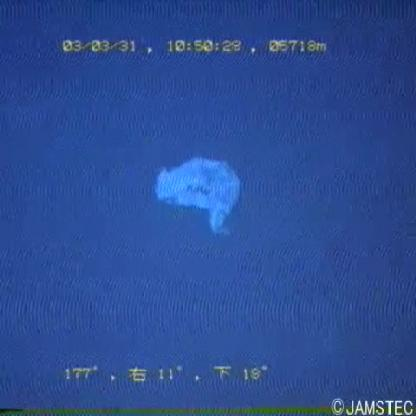Rác: (148, 151, 253, 244)
